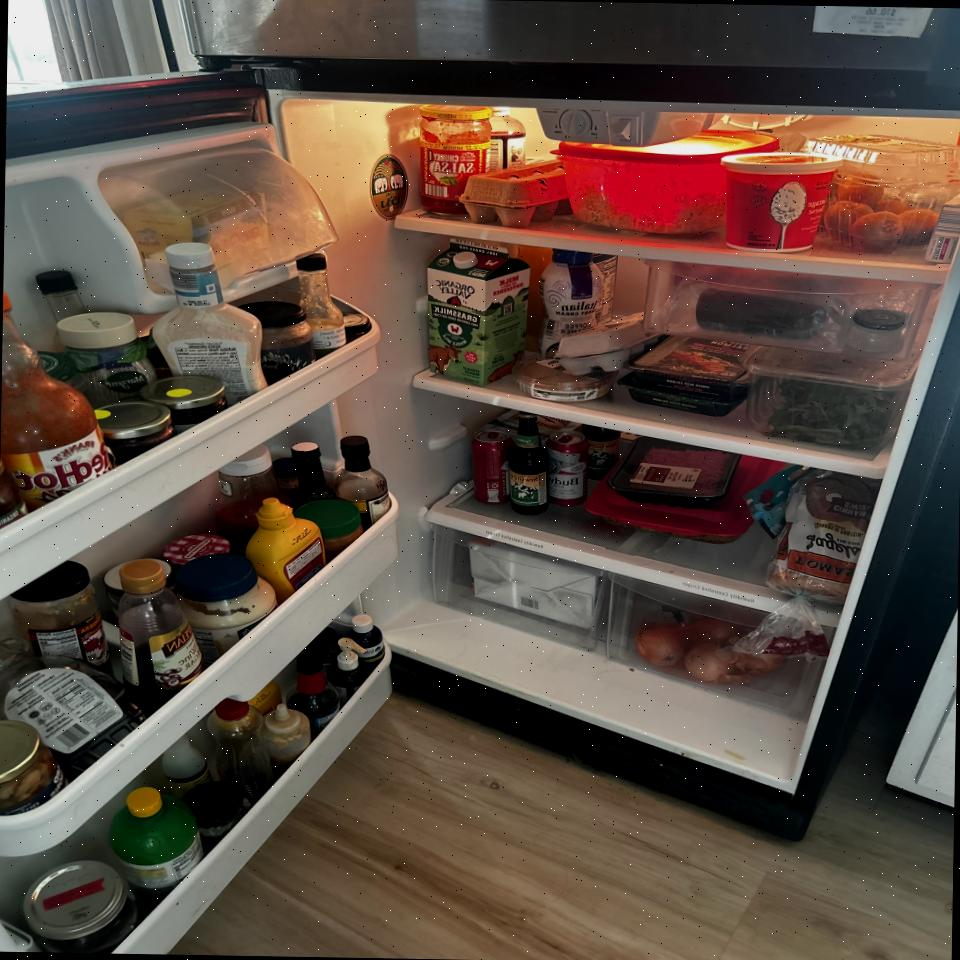Huevos: (461, 158, 571, 227), (556, 310, 659, 376)
Leche: (426, 238, 532, 387)
mayonnaise: (170, 555, 276, 655)
mustard: (247, 498, 327, 600)
